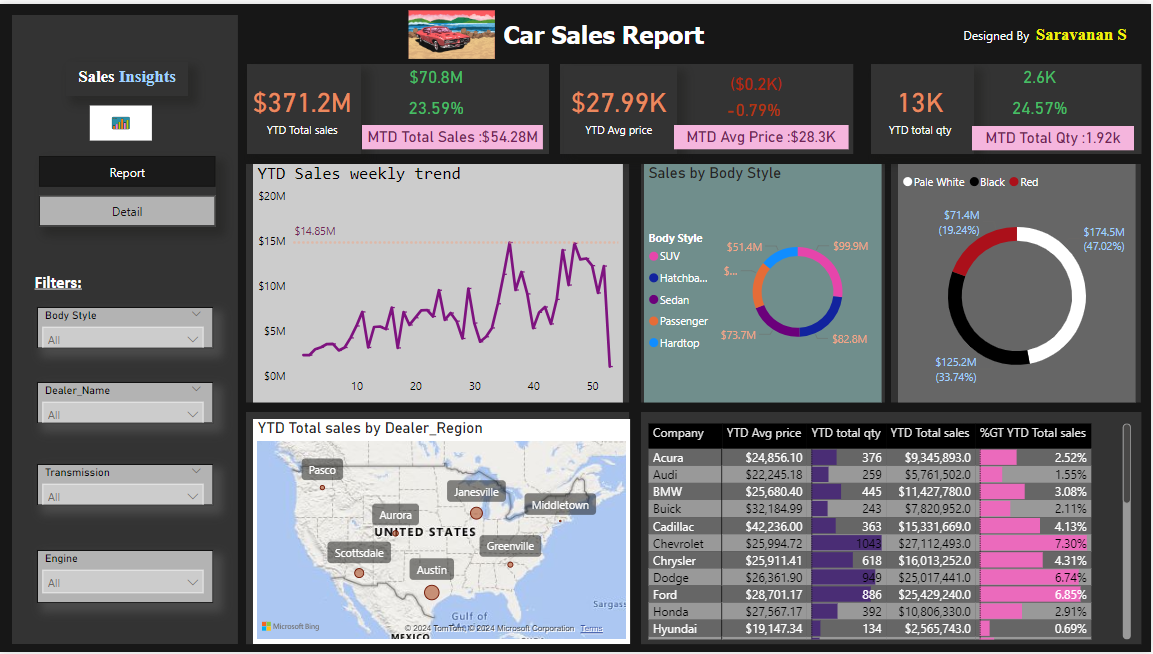

The dashboard page shown, as its layout file describes it:
{"tool":"powerbi","page":{"name":"Report","canvas":[1281,720],"ordinal":0},"visuals":[{"type":"shape","box":[14.4,12.2,251.1,698.9],"z":0},{"type":"card","fields":{"Values":["car_data.YTD tot qty"]},"box":[968.8,68.1,113.8,100.2],"z":0,"group":"g3"},{"type":"card","fields":{"Values":["car_data.YTD Avg price"]},"box":[627.8,69.2,126.4,98.2],"z":0,"group":"g2"},{"type":"shape","box":[275.3,67.1,335.6,100.2],"z":1},{"type":"shape","box":[274.9,178.2,425.6,265.1],"z":4},{"type":"shape","box":[623.5,67.1,325.8,100.2],"z":5},{"type":"shape","box":[968.8,67.1,300.5,100.2],"z":6},{"type":"shape","box":[274.9,453.1,425.6,258],"z":7},{"type":"shape","box":[712.9,453.1,556,258],"z":8},{"type":"shape","box":[712.9,178.2,271.3,265.1],"z":9},{"type":"shape","box":[991.3,178.2,277.5,265.1],"z":10},{"type":"card","fields":{"Values":["car_data.YTD Total sales"]},"box":[275.3,68.1,127.4,100.2],"z":11,"group":"g1"},{"type":"card","fields":{"Values":["car_data.YOY growth sales"]},"box":[440.6,101.1,94.3,33.1],"z":12,"group":"g1"},{"type":"card","fields":{"Values":["car_data.Dif YTD /PYTD"]},"box":[440.6,67.1,94.3,33.1],"z":13,"group":"g1"},{"type":"card","fields":{"Values":["car_data.KPI MTD SL"]},"box":[402.7,135.2,201.3,27.2],"z":14,"group":"g1"},{"type":"group","id":"g1","title":"Group 1","box":[275.3,67.1,328.8,101.2],"z":15},{"type":"group","id":"g2","title":"Group 1","box":[627.8,69.2,315.6,98.2],"z":16},{"type":"group","id":"g3","title":"Group 1","box":[968.8,67.1,292,101.2],"z":17},{"type":"areaChart","title":"YTD Sales weekly trend","fields":{"Category":["calendar table.week num"],"Y":["Sum(car_data.Price ($))"]},"box":[282,178.2,411.4,265.1],"z":18},{"type":"donutChart","title":"Sales by Body Style","fields":{"Category":["car_data.Body Style"],"Y":["car_data.YTD Total sales"]},"box":[716.5,178.2,264.2,265.1],"z":19},{"type":"donutChart","fields":{"Y":["car_data.YTD Total sales"],"Category":["car_data.Color"]},"box":[998.4,178.2,264.2,265.1],"z":20},{"type":"map","fields":{"Category":["car_data.Dealer_Region"],"Size":["car_data.YTD Total sales"]},"box":[282,461.1,418.5,250],"z":21},{"type":"pivotTable","fields":{"Rows":["car_data.Company"],"Values":["car_data.YTD Avg price","car_data.YTD tot qty","car_data.YTD Total sales1","car_data.YTD Total sales"]},"box":[716.5,461.1,546.2,250],"z":22},{"type":"textbox","box":[534.7,12.4,274.9,43.4],"z":23},{"type":"slicer","fields":{"Values":["car_data.Body Style"]},"box":[41.7,336.9,196,46.1],"z":24},{"type":"slicer","fields":{"Values":["car_data.Dealer_Name"]},"box":[41.7,420.3,196,46.1],"z":25},{"type":"slicer","fields":{"Values":["car_data.Transmission"]},"box":[41.7,510.7,196,46.1],"z":26},{"type":"slicer","fields":{"Values":["car_data.Engine"]},"box":[41.7,606.5,196,58.5],"z":27},{"type":"textbox","box":[1043.6,17.7,237.6,33.7],"z":28},{"type":"image","box":[450.4,0,106.4,67.4],"z":29},{"type":"shape","box":[14.2,311.2,250.9,14.2],"z":30},{"type":"textbox","box":[74.4,64.4,135.6,37.8],"z":31},{"type":"textbox","box":[34.6,291.7,79.8,33.7],"z":32},{"type":"pageNavigator","box":[44.3,168.5,196.8,78.9],"z":33},{"type":"image","box":[88.9,107.8,93.3,48.9],"z":34},{"type":"card","fields":{"Values":["car_data.yoy diff qty"]},"box":[1116.5,101.1,84.3,33.1],"z":1000,"group":"g3"},{"type":"card","fields":{"Values":["car_data.YoY Growth Avg Price"]},"box":[793,103.4,94.3,33.1],"z":1000,"group":"g2"},{"type":"card","fields":{"Values":["car_data.diff tq / ptq"]},"box":[1116.5,67.1,84.3,33.1],"z":2000,"group":"g3"},{"type":"card","fields":{"Values":["car_data.Diff YTD Avg and PYTD Avg"]},"box":[787.6,74.3,111.7,32.8],"z":2000,"group":"g2"},{"type":"card","fields":{"Values":["car_data.Kpi mtd avg"]},"box":[749.8,135.3,193.6,27.2],"z":3000,"group":"g2"},{"type":"card","fields":{"Values":["car_data.kpi mtd qty"]},"box":[1080.9,136,179.9,27.2],"z":3000,"group":"g3"}]}

Visuals, with their boxes in screenshot pixels (x1, y1, x2, y2), scaled from the page's 1281x720 canvas onto the 1153x654 screenshot:
shape: (left=13, top=11, right=239, bottom=646)
card - car_data.YTD tot qty: (left=872, top=62, right=974, bottom=153)
card - car_data.YTD Avg price: (left=565, top=63, right=679, bottom=152)
shape: (left=248, top=61, right=550, bottom=152)
shape: (left=247, top=162, right=631, bottom=403)
shape: (left=561, top=61, right=854, bottom=152)
shape: (left=872, top=61, right=1142, bottom=152)
shape: (left=247, top=412, right=631, bottom=646)
shape: (left=642, top=412, right=1142, bottom=646)
shape: (left=642, top=162, right=886, bottom=403)
shape: (left=892, top=162, right=1142, bottom=403)
card - car_data.YTD Total sales: (left=248, top=62, right=362, bottom=153)
card - car_data.YOY growth sales: (left=397, top=92, right=481, bottom=122)
card - car_data.Dif YTD /PYTD: (left=397, top=61, right=481, bottom=91)
card - car_data.KPI MTD SL: (left=362, top=123, right=544, bottom=148)
"Group 1" group: (left=248, top=61, right=544, bottom=153)
"Group 1" group: (left=565, top=63, right=849, bottom=152)
"Group 1" group: (left=872, top=61, right=1135, bottom=153)
"YTD Sales weekly trend" areaChart: (left=254, top=162, right=624, bottom=403)
"Sales by Body Style" donutChart: (left=645, top=162, right=883, bottom=403)
donutChart - car_data.YTD Total sales x car_data.Color: (left=899, top=162, right=1136, bottom=403)
map - car_data.Dealer_Region x car_data.YTD Total sales: (left=254, top=419, right=631, bottom=646)
pivotTable - car_data.Company x car_data.YTD Avg price: (left=645, top=419, right=1137, bottom=646)
textbox: (left=481, top=11, right=729, bottom=51)
slicer - car_data.Body Style: (left=38, top=306, right=214, bottom=348)
slicer - car_data.Dealer_Name: (left=38, top=382, right=214, bottom=424)
slicer - car_data.Transmission: (left=38, top=464, right=214, bottom=506)
slicer - car_data.Engine: (left=38, top=551, right=214, bottom=604)
textbox: (left=939, top=16, right=1152, bottom=47)
image: (left=405, top=0, right=501, bottom=61)
shape: (left=13, top=283, right=239, bottom=296)
textbox: (left=67, top=58, right=189, bottom=93)
textbox: (left=31, top=265, right=103, bottom=296)
pageNavigator: (left=40, top=153, right=217, bottom=225)
image: (left=80, top=98, right=164, bottom=142)
card - car_data.yoy diff qty: (left=1005, top=92, right=1081, bottom=122)
card - car_data.YoY Growth Avg Price: (left=714, top=94, right=799, bottom=124)
card - car_data.diff tq / ptq: (left=1005, top=61, right=1081, bottom=91)
card - car_data.Diff YTD Avg and PYTD Avg: (left=709, top=67, right=809, bottom=97)
card - car_data.Kpi mtd avg: (left=675, top=123, right=849, bottom=148)
card - car_data.kpi mtd qty: (left=973, top=124, right=1135, bottom=148)
